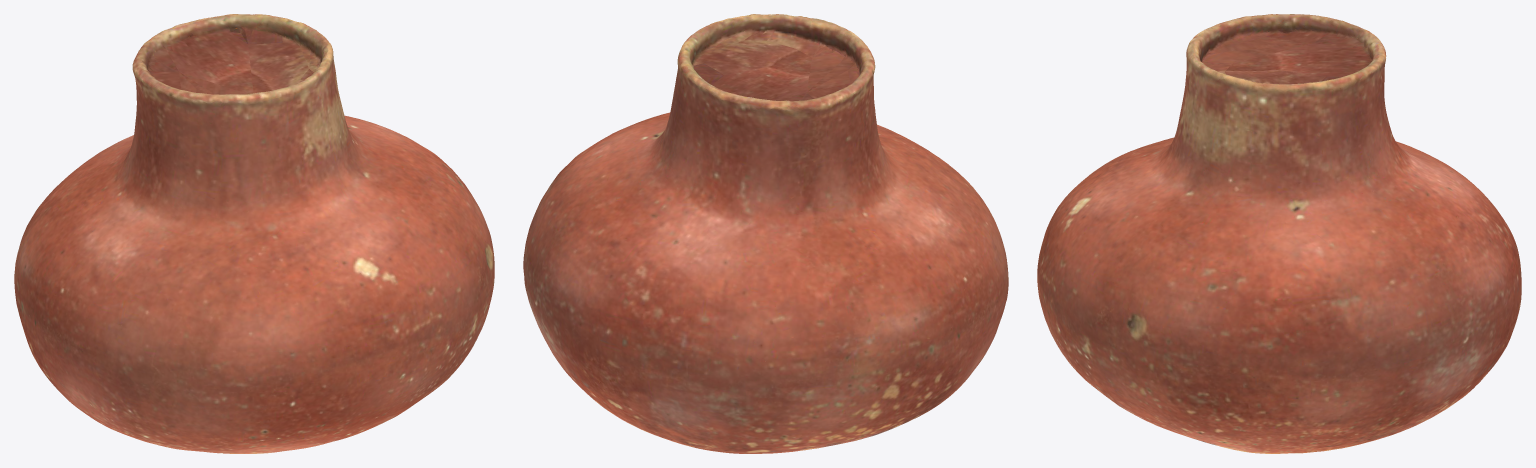
The model's file is Ark_HM_1286_HI.glb.
3 renders of one model, left to right at view 1: azimuth 30°, elevation 25°; view 2: azimuth 150°, elevation 25°; view 3: azimuth 270°, elevation 25°, orthographic.
Size of the model in its own units: 0.4948 by 0.424 by 0.4999.
Materials: 1 (1 with a texture image).
